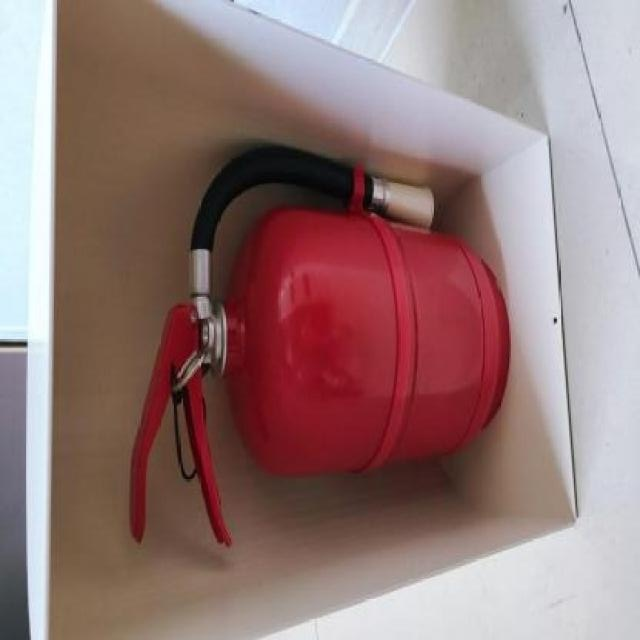fire extinguisher: (129, 142, 511, 550)
